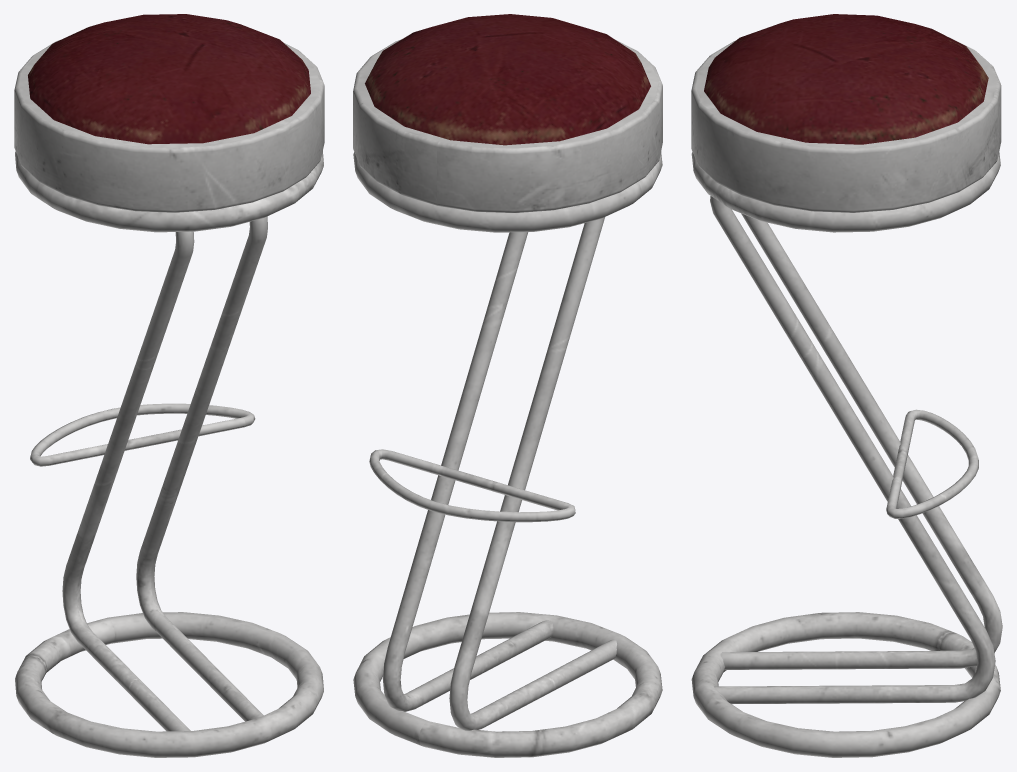
The model's file is Prop_HighTableStool_Chair.fbx.
The picture shows the model from 3 angles, left to right: view 1: azimuth 30°, elevation 25°; view 2: azimuth 150°, elevation 25°; view 3: azimuth 270°, elevation 25°; orthographic projection.
Parts seen in each view (by area): view 1: Prop_HighTableStool_Chair; view 2: Prop_HighTableStool_Chair; view 3: Prop_HighTableStool_Chair.
Boxes of the visible parts, <box> form: Prop_HighTableStool_Chair: <box>14,14,324,757</box>; Prop_HighTableStool_Chair: <box>353,14,662,757</box>; Prop_HighTableStool_Chair: <box>691,14,1002,757</box>.
Bounding box in the file's own units: 16.7 × 38.66 × 16.78.
